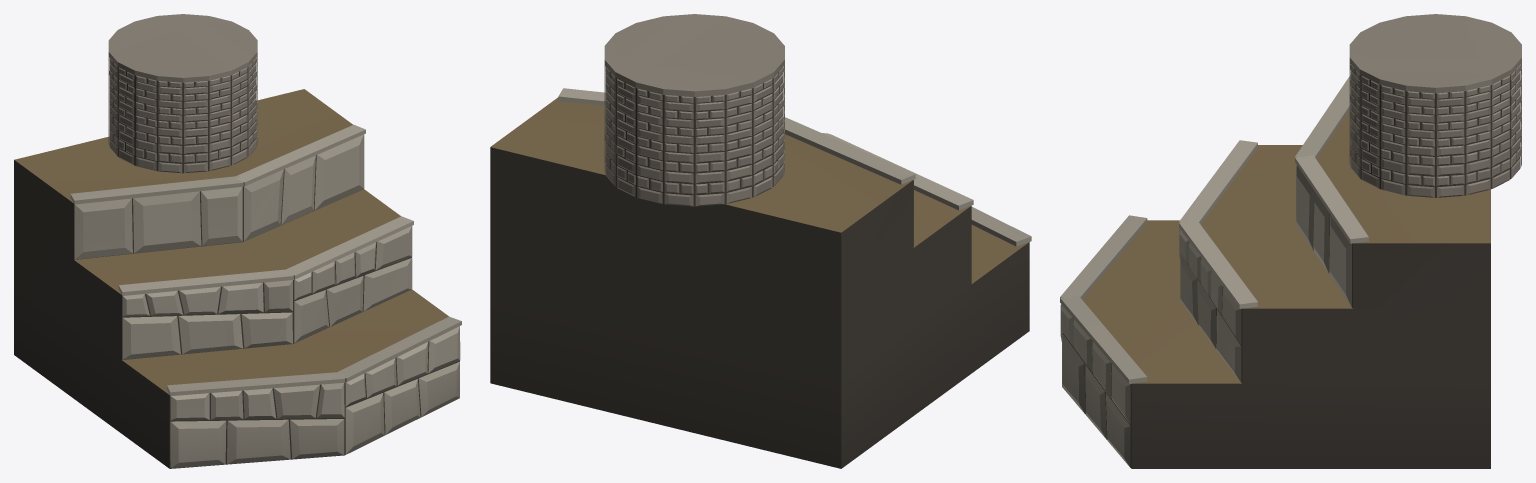
The model's file is cusco_sacsay_round_lod0.glb.
3 renders of one model, left to right at view 1: azimuth 30°, elevation 25°; view 2: azimuth 150°, elevation 25°; view 3: azimuth 270°, elevation 25°, orthographic. The views are drawn at different scales.
Parts seen in each view (by area): view 1: GEO-Arch_cusco_sacsay_round_LOD0; view 2: GEO-Arch_cusco_sacsay_round_LOD0; view 3: GEO-Arch_cusco_sacsay_round_LOD0.
Part boxes in pixels (left/top/right/bottom): GEO-Arch_cusco_sacsay_round_LOD0: left=14, top=14, right=461, bottom=468; GEO-Arch_cusco_sacsay_round_LOD0: left=490, top=14, right=1031, bottom=468; GEO-Arch_cusco_sacsay_round_LOD0: left=1060, top=14, right=1521, bottom=468.
Bounding box in the file's own units: 14.07 × 13.42 × 16.71.
